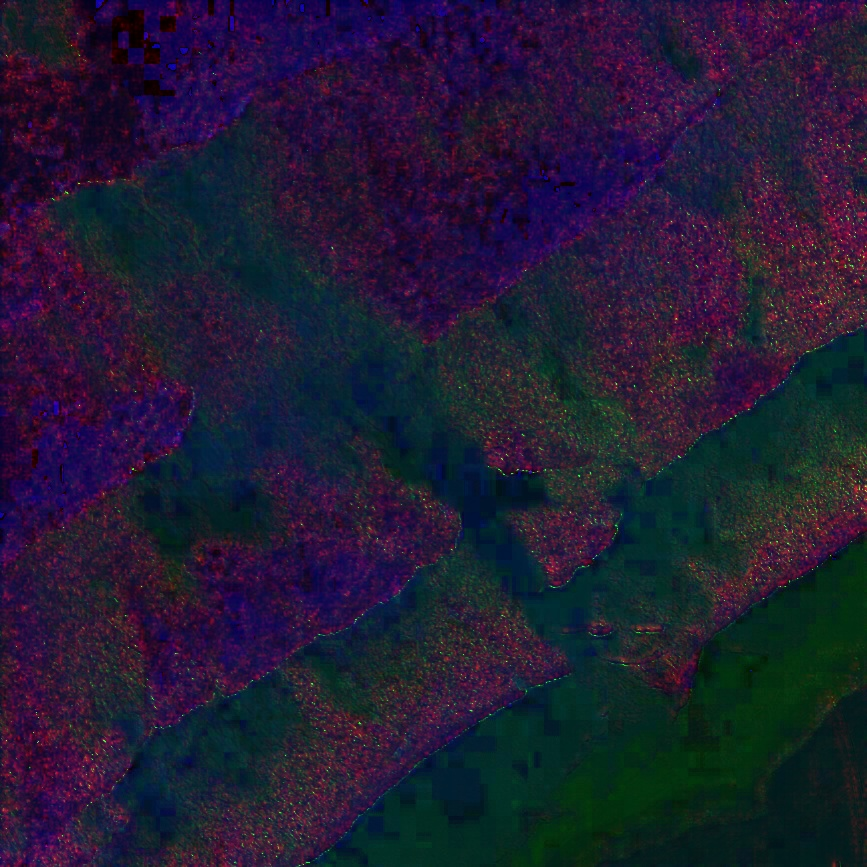rip_current: (105, 125, 711, 781)
